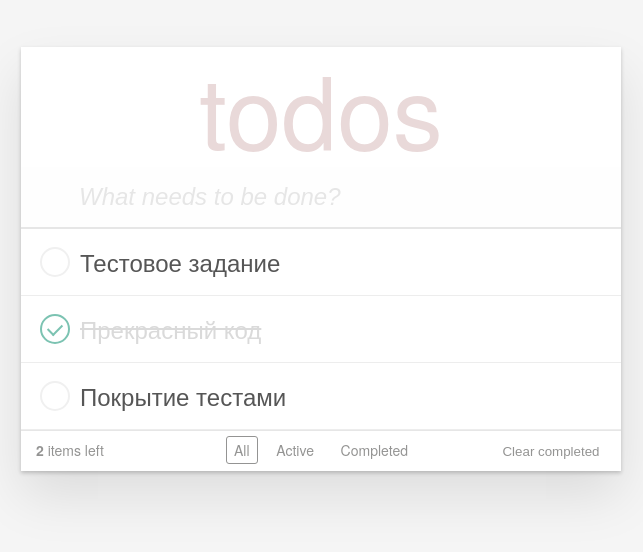
Test: App Component › adds a new todo item
Type "New Todo" into the field with placeholder "What needs to be done?" at [321, 197], box [21,167,621,227]
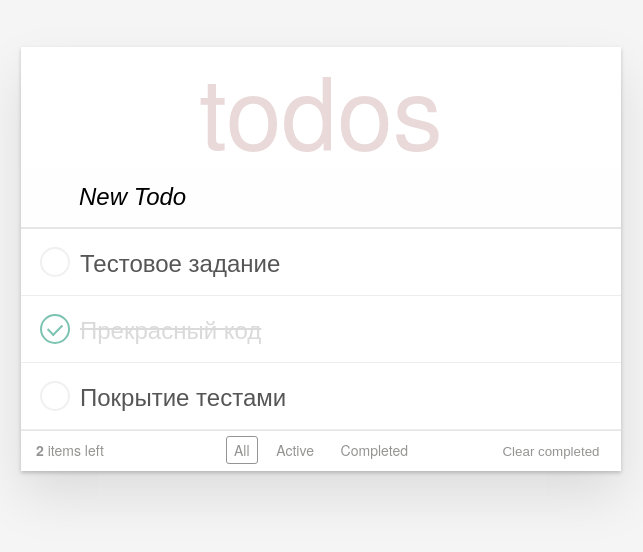
Press Enter in the field with placeholder "What needs to be done?", box [21,167,621,227]
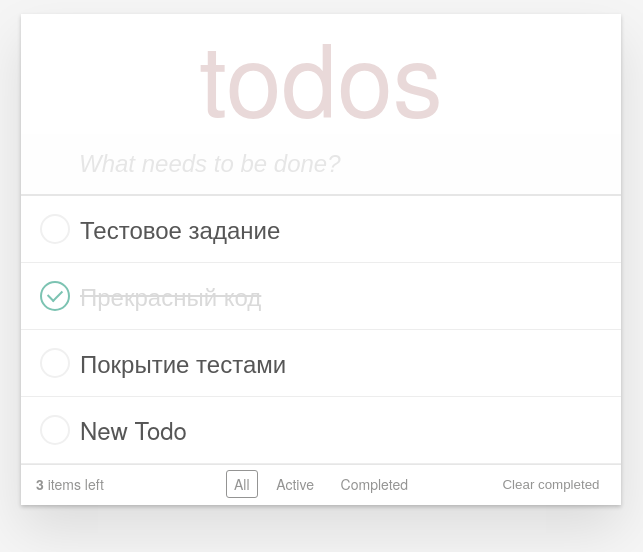
Now the text "New Todo" is shown, box [80,420,187,439]
